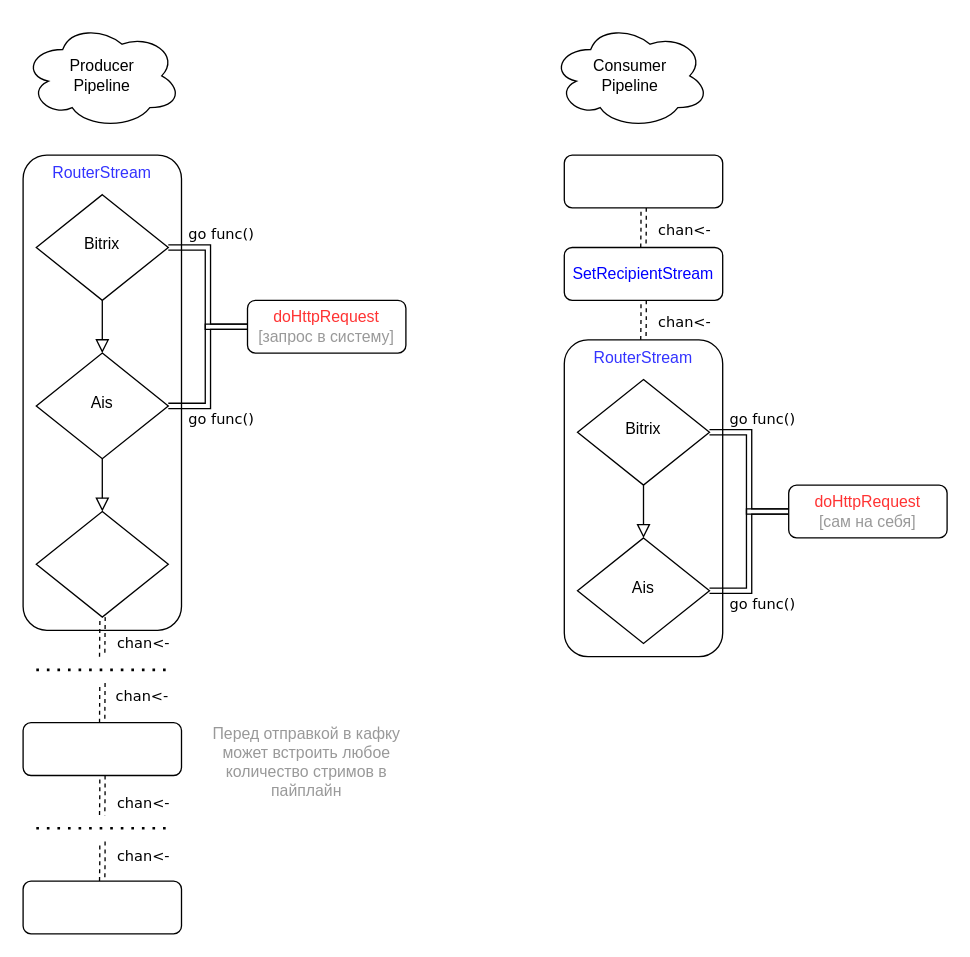
The diagram is 970 pixels wide and 957 high, and some of its shapes have lost their labels. Each missing label, with the centre of its shape:
Kafka: the point at 101,563
KafkaStream: the point at 102,907
ListenKafkaStream: the point at 643,181
SomeStream: the point at 102,748
